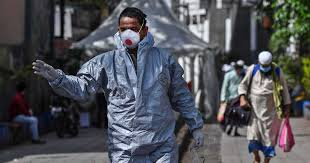mask: (115, 7, 145, 46), (256, 55, 273, 74), (16, 78, 28, 94), (235, 57, 244, 72), (219, 63, 229, 74)
